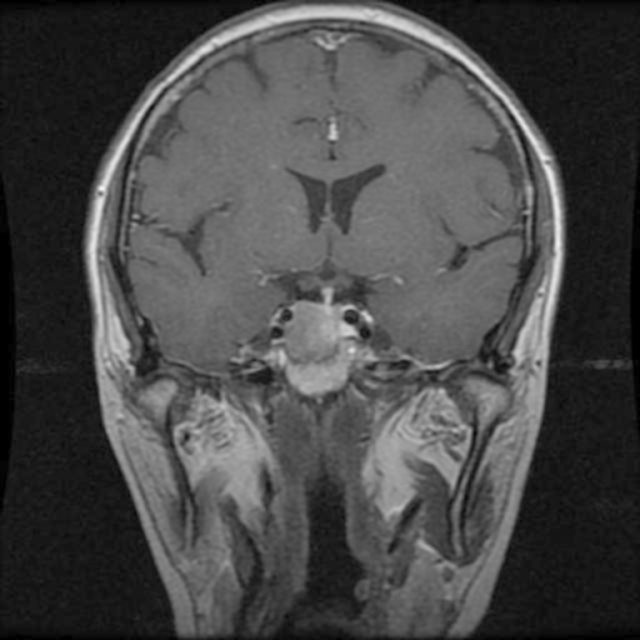no tumor: (285, 299, 353, 391)
